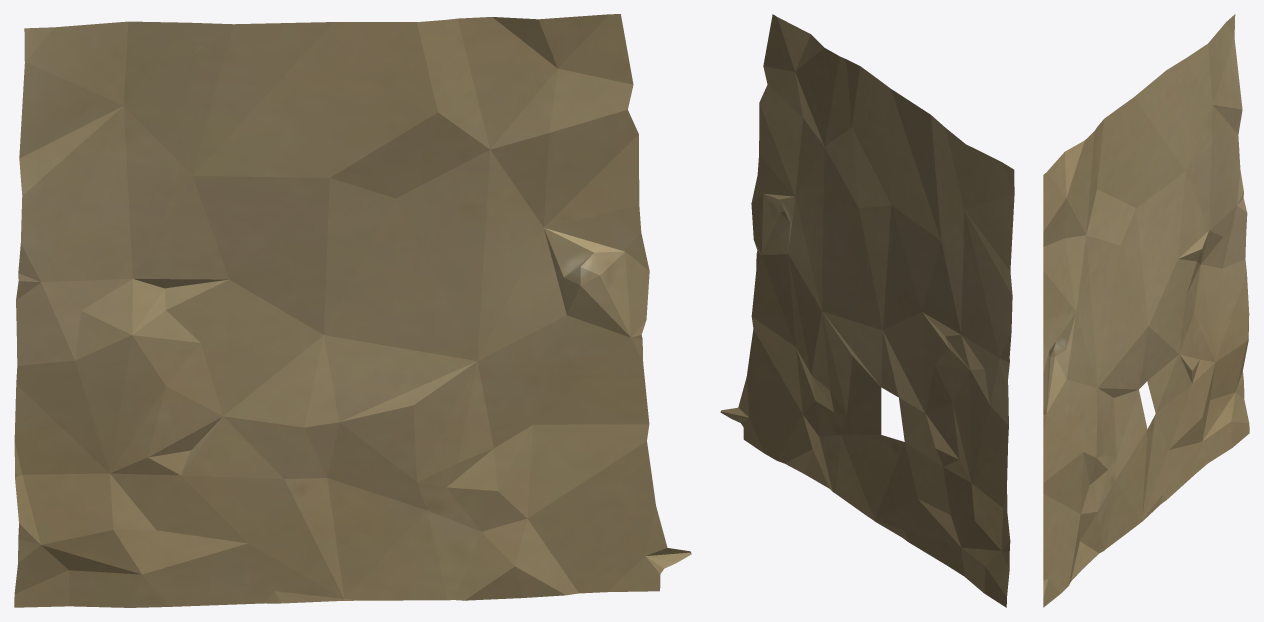
3 views of the same model, side by side, from view 1: azimuth 30°, elevation 25°; view 2: azimuth 150°, elevation 25°; view 3: azimuth 270°, elevation 25° (orthographic). The views are drawn at different scales.
Bounding box in the file's own units: 0.7957 × 0.8374 × 0.374.
3 materials, 3 textured.
